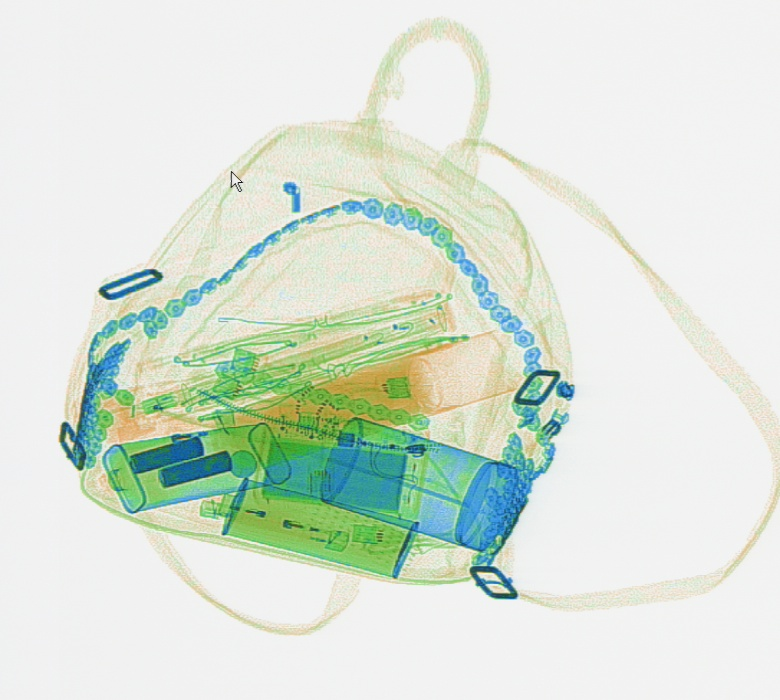lighter: (274, 513, 348, 551), (196, 498, 280, 527)
zippooil: (96, 416, 292, 514)
